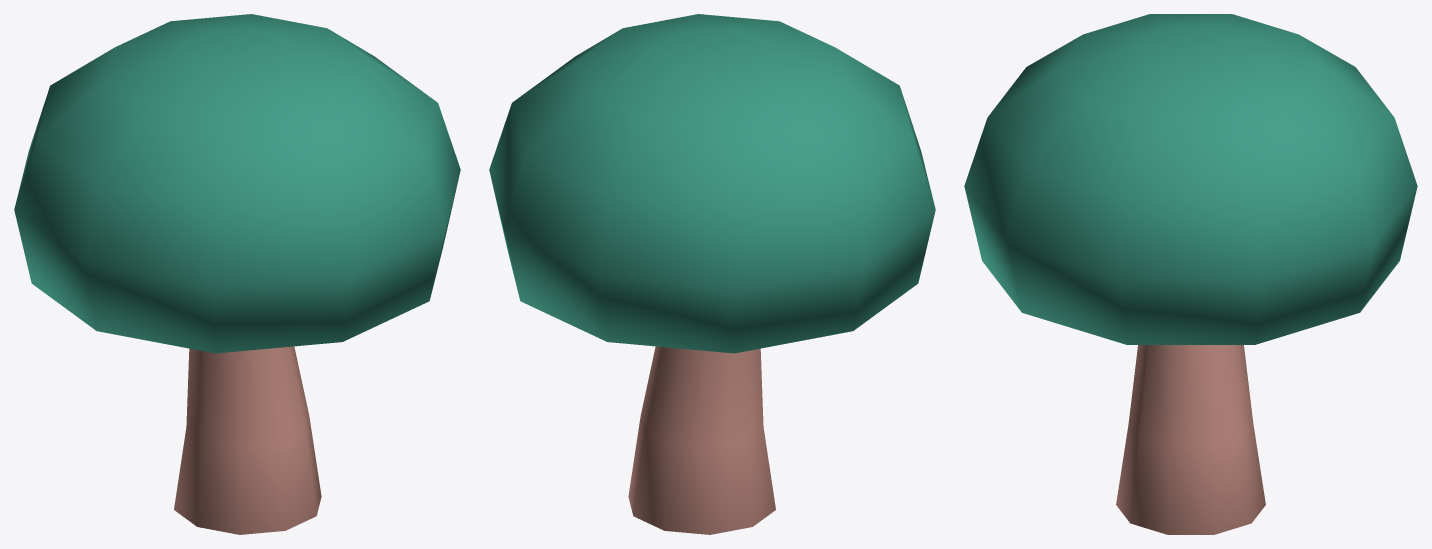
File: Mushroom_Turquoise_1.fbx
3 renders of one model, left to right at view 1: azimuth 30°, elevation 25°; view 2: azimuth 150°, elevation 25°; view 3: azimuth 270°, elevation 25°, orthographic.
Visible parts, largest first — view 1: Cylinder.575, Cylinder.574; view 2: Cylinder.575, Cylinder.574; view 3: Cylinder.575, Cylinder.574.
Part boxes in pixels (box(x1,y1,x2,y2)): Cylinder.575: box(14, 14, 460, 353); Cylinder.574: box(174, 346, 321, 534); Cylinder.575: box(489, 14, 935, 353); Cylinder.574: box(628, 346, 775, 534); Cylinder.575: box(964, 14, 1417, 344); Cylinder.574: box(1116, 345, 1265, 534).
Bounding box in the file's own units: 77.71 × 89.62 × 81.71.
